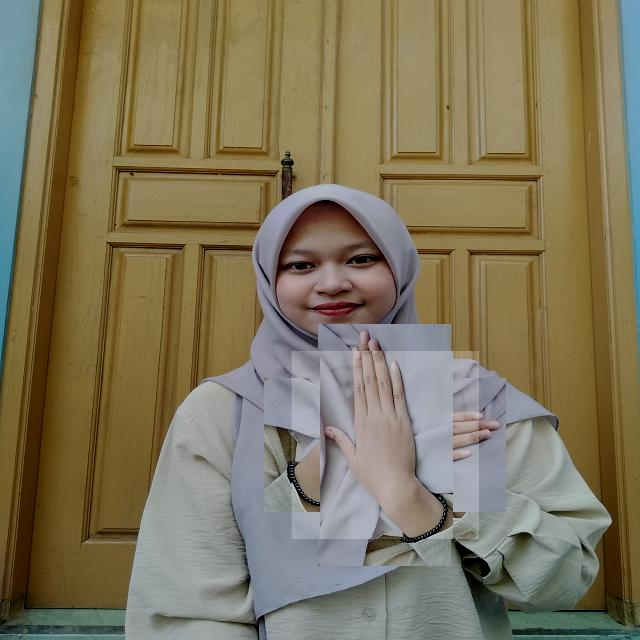tolong: (291, 351, 478, 539)
